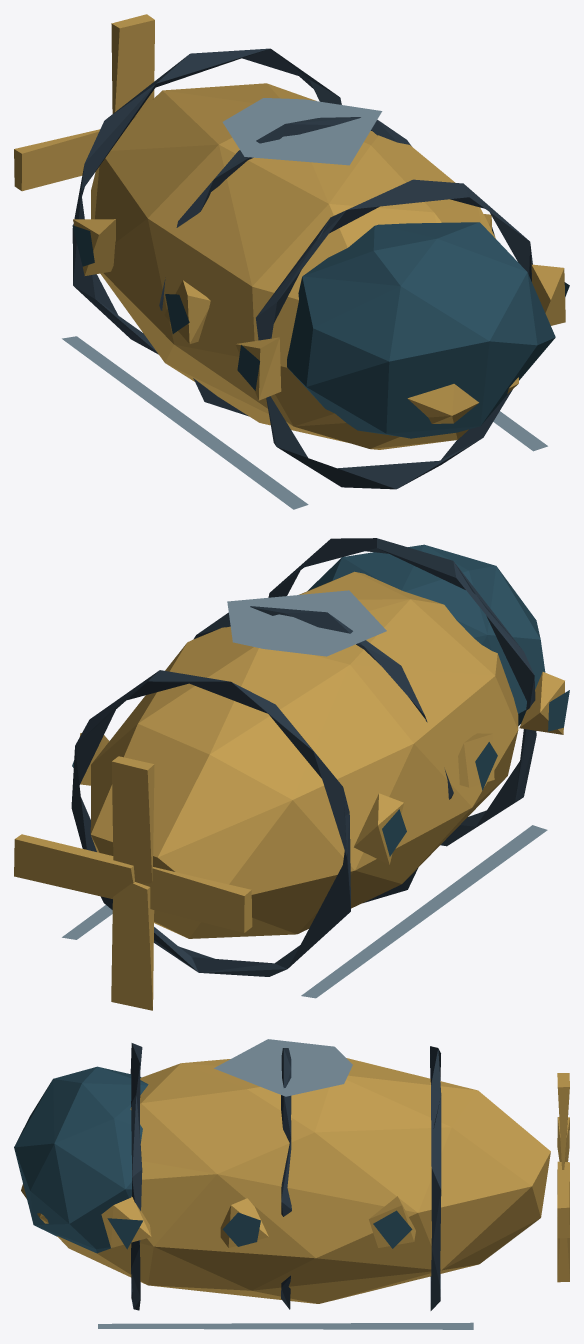
File: submarines-tandem-sub.lod2.glb
3 views of the same model, one above another, from view 1: azimuth 30°, elevation 25°; view 2: azimuth 150°, elevation 25°; view 3: azimuth 270°, elevation 25° (orthographic). The views are drawn at different scales.
Visible parts, largest first — view 1: submarines-tandem-sub__body, submarines-tandem-sub__hatch, submarines-tandem-sub__propeller; view 2: submarines-tandem-sub__body, submarines-tandem-sub__propeller, submarines-tandem-sub__hatch; view 3: submarines-tandem-sub__body, submarines-tandem-sub__hatch, submarines-tandem-sub__propeller.
Part boxes in pixels (x1,y1,x2,y2): submarines-tandem-sub__body: [62, 48, 569, 509]; submarines-tandem-sub__hatch: [222, 98, 382, 165]; submarines-tandem-sub__propeller: [14, 14, 154, 191]; submarines-tandem-sub__body: [62, 538, 569, 998]; submarines-tandem-sub__propeller: [14, 756, 252, 1010]; submarines-tandem-sub__hatch: [227, 590, 386, 656]; submarines-tandem-sub__body: [14, 1043, 550, 1329]; submarines-tandem-sub__hatch: [214, 1039, 352, 1096]; submarines-tandem-sub__propeller: [557, 1073, 569, 1282].
Size of the model in its own units: 2.3 by 2.14 by 4.37.
